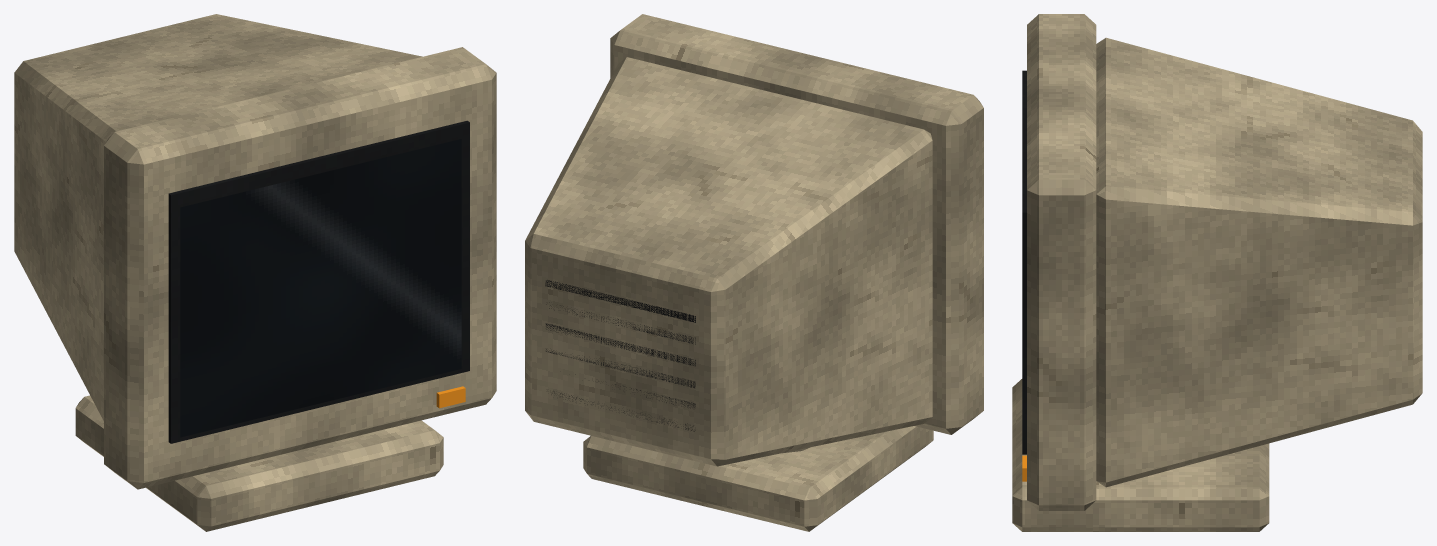
The model's file is Lab_CRT.fbx.
3 renders of one model, left to right at view 1: azimuth 30°, elevation 25°; view 2: azimuth 150°, elevation 25°; view 3: azimuth 270°, elevation 25°, orthographic. The views are drawn at different scales.
Parts seen in each view (by area): view 1: Lab_CRT; view 2: Lab_CRT; view 3: Lab_CRT.
Part boxes in pixels (left/top/right/bottom): Lab_CRT: left=14, top=14, right=496, bottom=531; Lab_CRT: left=525, top=14, right=983, bottom=531; Lab_CRT: left=1012, top=14, right=1422, bottom=531.
Size of the model in its own units: 0.42 by 0.425 by 0.415.
